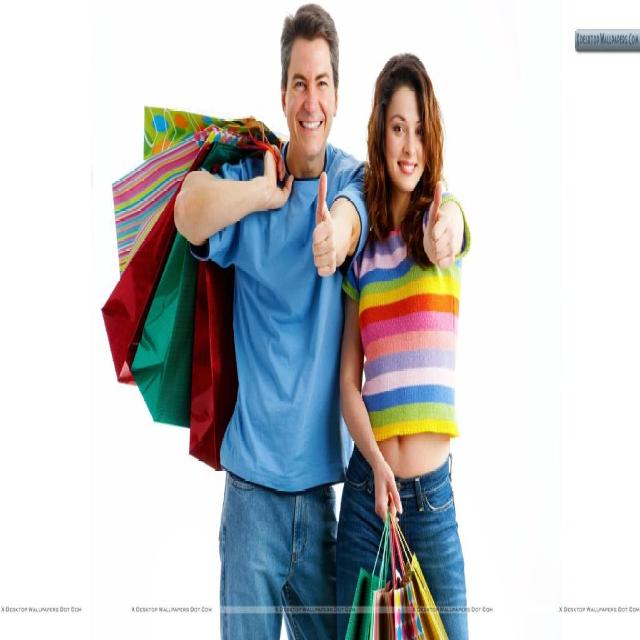Face: (372, 79, 435, 183), (284, 29, 334, 155)
